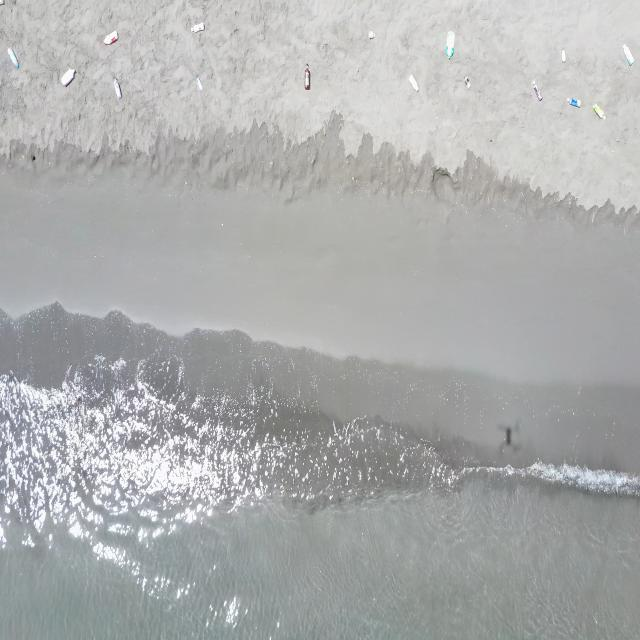Garbage: (60, 68, 75, 84), (444, 31, 453, 57), (8, 48, 18, 68), (532, 80, 542, 100), (592, 103, 604, 119), (623, 44, 632, 64), (104, 30, 116, 44), (112, 77, 120, 98), (303, 64, 310, 88), (408, 74, 417, 91), (567, 98, 580, 107), (192, 23, 203, 32), (560, 48, 566, 62), (367, 30, 375, 39), (464, 75, 470, 87), (196, 76, 201, 89), (0, 0, 3, 4)
